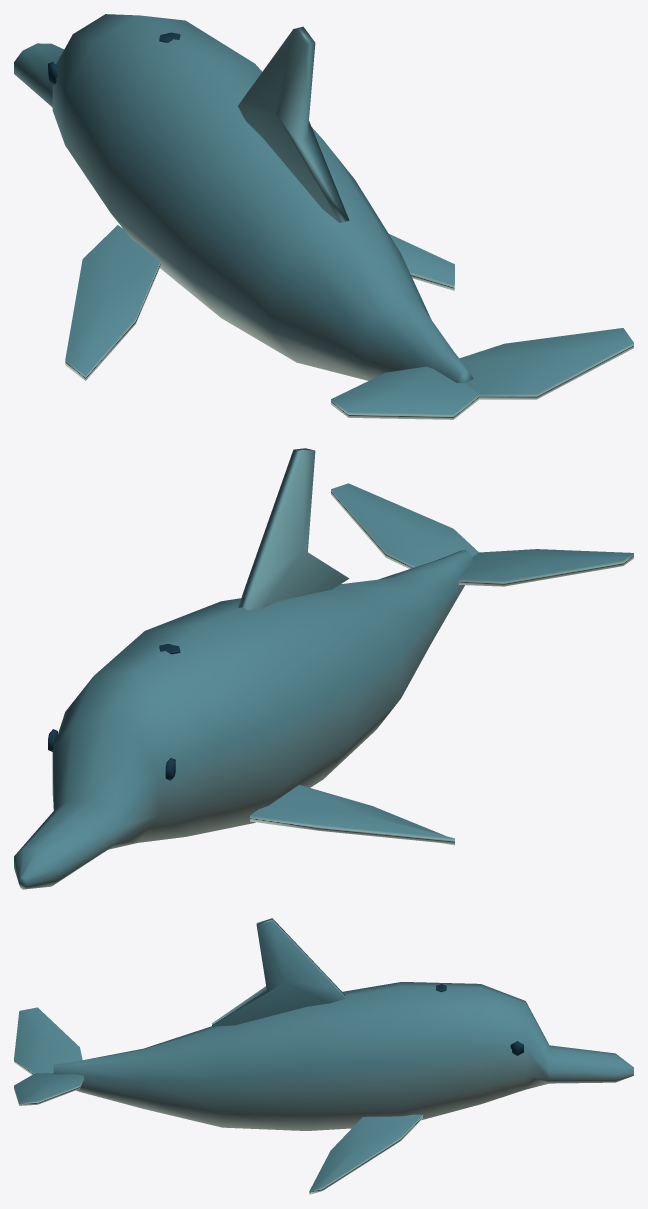
Rendered from dolphin.glb.
The picture shows the model from 3 angles, top to bottom: view 1: azimuth 30°, elevation 25°; view 2: azimuth 150°, elevation 25°; view 3: azimuth 270°, elevation 25°; orthographic projection. The views are drawn at different scales.
Visible parts, largest first — view 1: body_surface, anim_tail_surface, anim_flipper_L_surface, anim_flipper_R_surface; view 2: body_surface, anim_tail_surface, anim_flipper_L_surface; view 3: body_surface, anim_tail_surface, anim_flipper_R_surface.
Part boxes in pixels (<box>): body_surface: <box>14,14,473,382</box>; anim_tail_surface: <box>331,328,633,419</box>; anim_flipper_L_surface: <box>65,225,161,380</box>; anim_flipper_R_surface: <box>389,234,454,290</box>; body_surface: <box>14,448,473,889</box>; anim_tail_surface: <box>331,483,633,586</box>; anim_flipper_L_surface: <box>250,785,454,845</box>; body_surface: <box>53,918,633,1130</box>; anim_tail_surface: <box>14,1007,83,1105</box>; anim_flipper_R_surface: <box>309,1114,422,1194</box>.
Bounding box in the file's own units: 1.14 × 0.9224 × 2.4.
